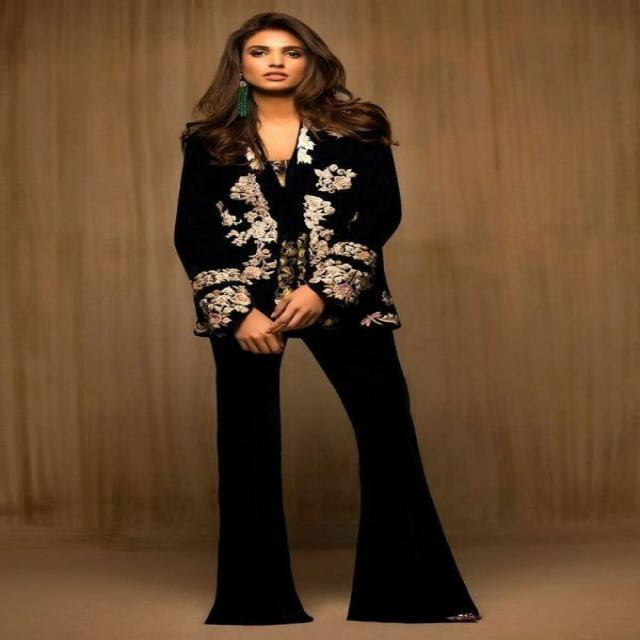female-dress: (169, 111, 472, 628)
